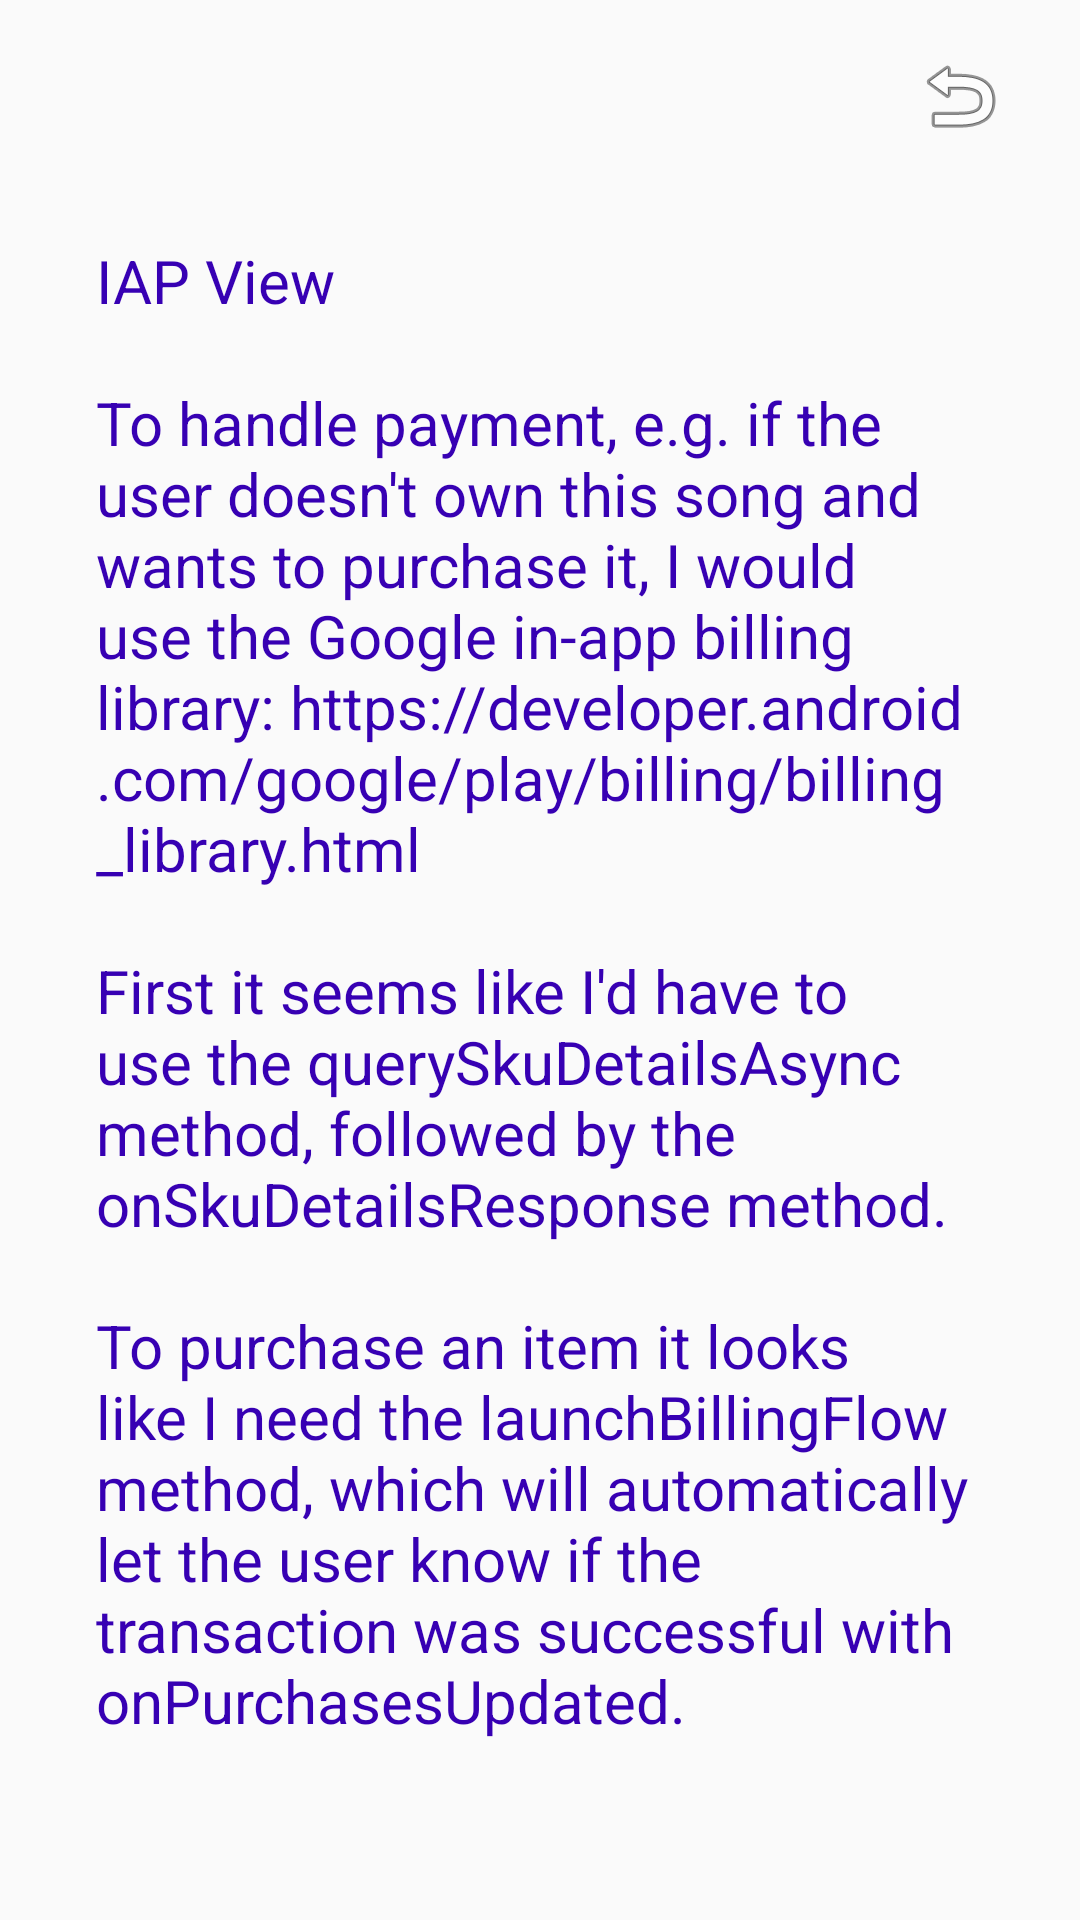

Screen size 1080×1920. Icon name, then its box in pixels as rect(x1, y1, x2, y2):
revert: rect(927, 65, 996, 128)
